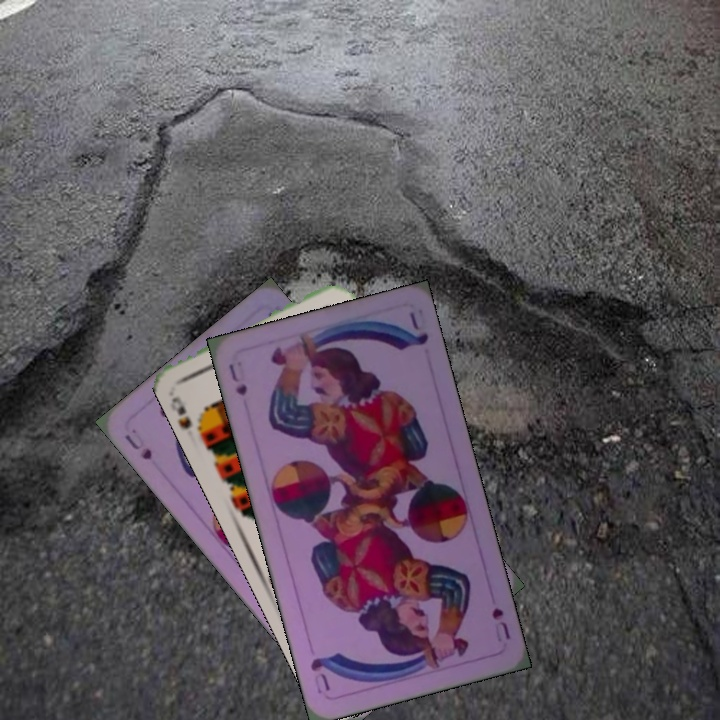S9: (167, 392, 209, 439)
SU: (121, 430, 155, 463), (487, 603, 513, 645), (224, 359, 250, 398)
